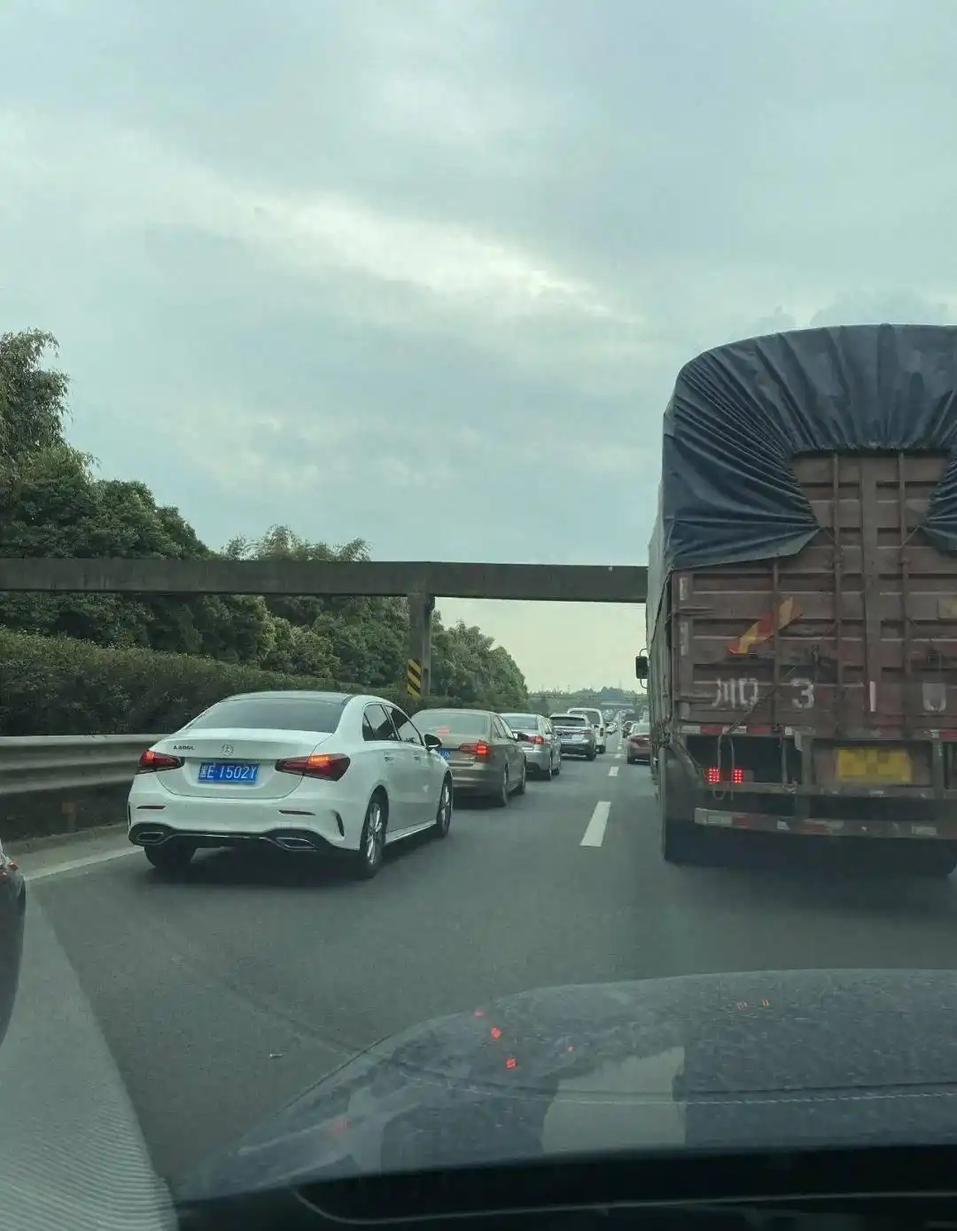lane: (21, 845, 136, 877), (587, 799, 611, 859), (609, 749, 629, 777)
